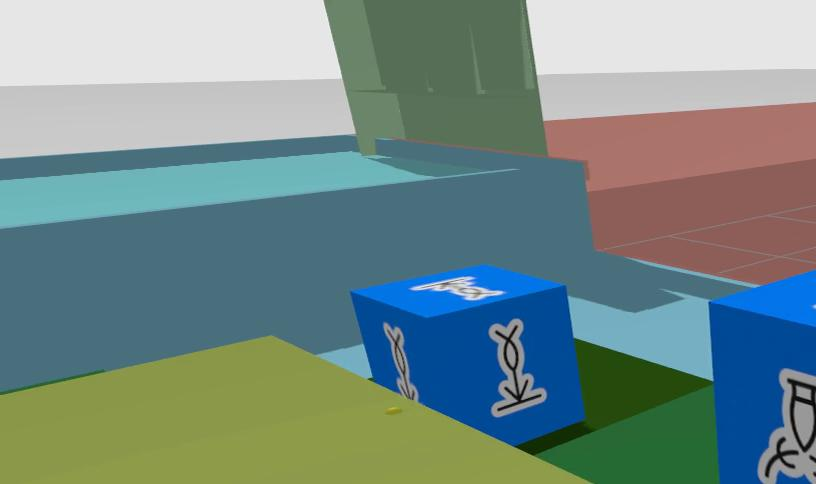KFS_REAL: (352, 265, 583, 444), (710, 269, 816, 484), (757, 368, 816, 484), (490, 318, 545, 416), (382, 323, 417, 400), (411, 277, 503, 300), (813, 304, 816, 308)
